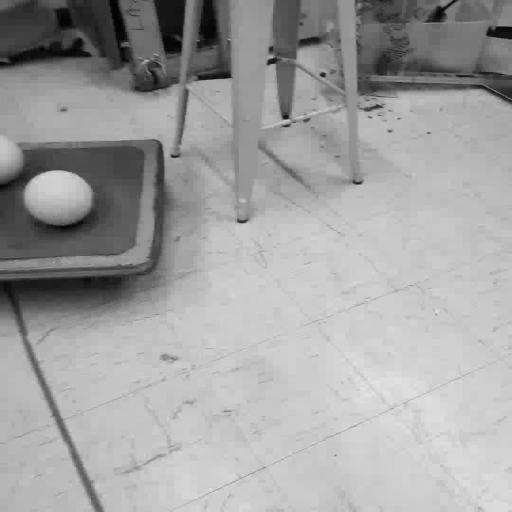fuel: (24, 170, 93, 226), (0, 136, 24, 184)
